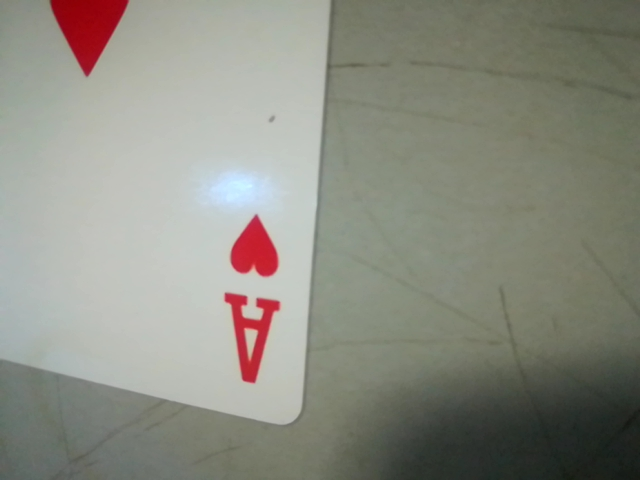hx a: (206, 202, 296, 406)
